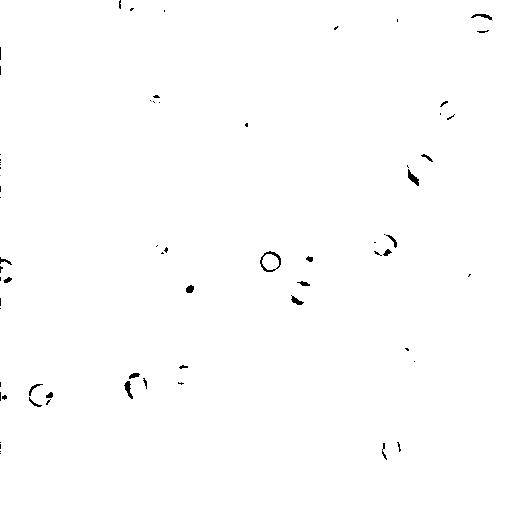micro-algae: (113, 3, 172, 61), (98, 372, 140, 416), (243, 195, 289, 235), (320, 205, 361, 241), (462, 150, 497, 190), (403, 149, 442, 184), (290, 32, 327, 68), (295, 242, 330, 276), (0, 266, 33, 302), (324, 15, 363, 45), (77, 163, 108, 200), (235, 102, 269, 135), (35, 97, 63, 135), (460, 268, 489, 300), (123, 370, 150, 400), (177, 273, 208, 299), (372, 231, 399, 259), (287, 280, 316, 306), (168, 363, 199, 387), (395, 176, 422, 203), (0, 45, 24, 75), (27, 382, 53, 409), (380, 435, 403, 464), (466, 12, 496, 34), (163, 0, 187, 27), (258, 249, 283, 274), (436, 97, 460, 123), (382, 9, 405, 33), (398, 346, 421, 366), (0, 256, 15, 284), (153, 236, 174, 256), (116, 0, 139, 14), (1, 386, 15, 407), (287, 244, 301, 262)
